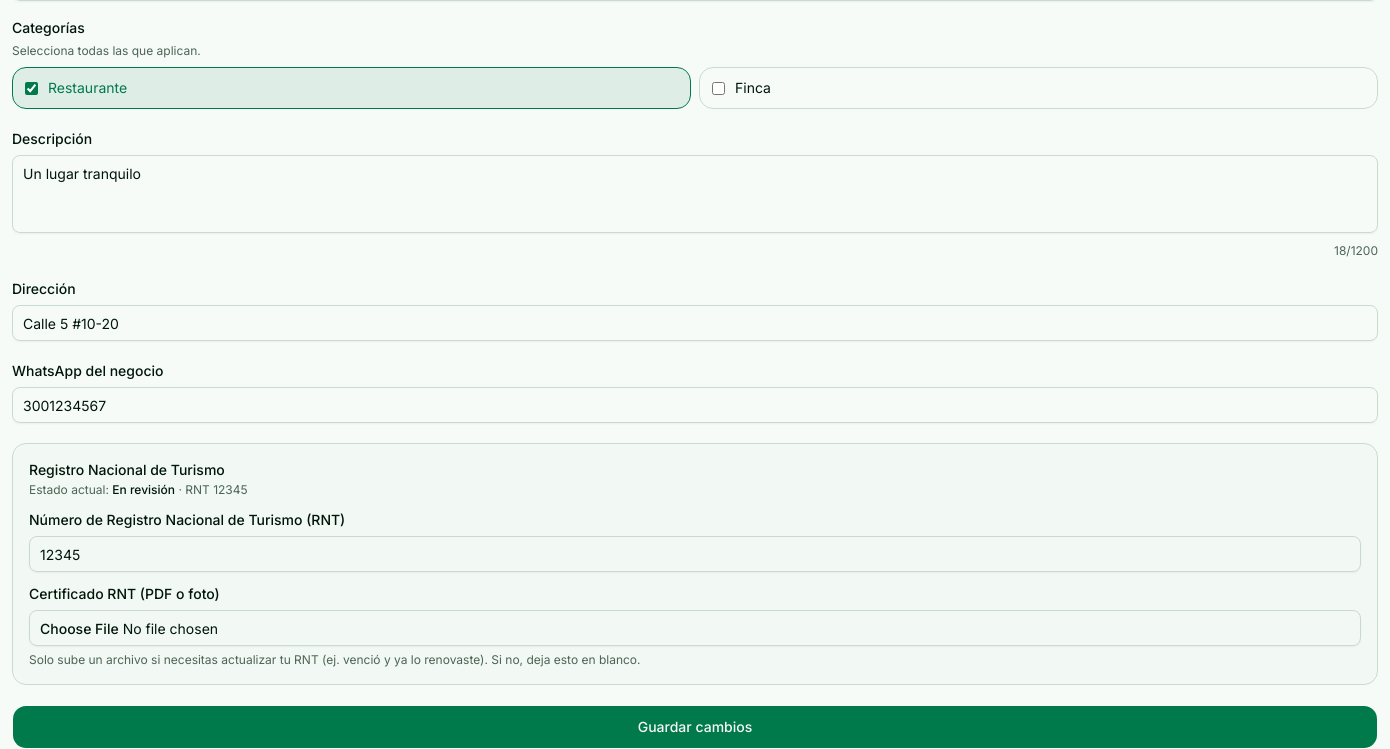
Test case: EditBusinessForm › disables the submit button and shows the pending label while the action is in flight
The image size is (1390, 749).
(page scrolled)
Click the button "Guardar cambios" at (695, 727), box x1=12 y1=705 x2=1378 y2=748
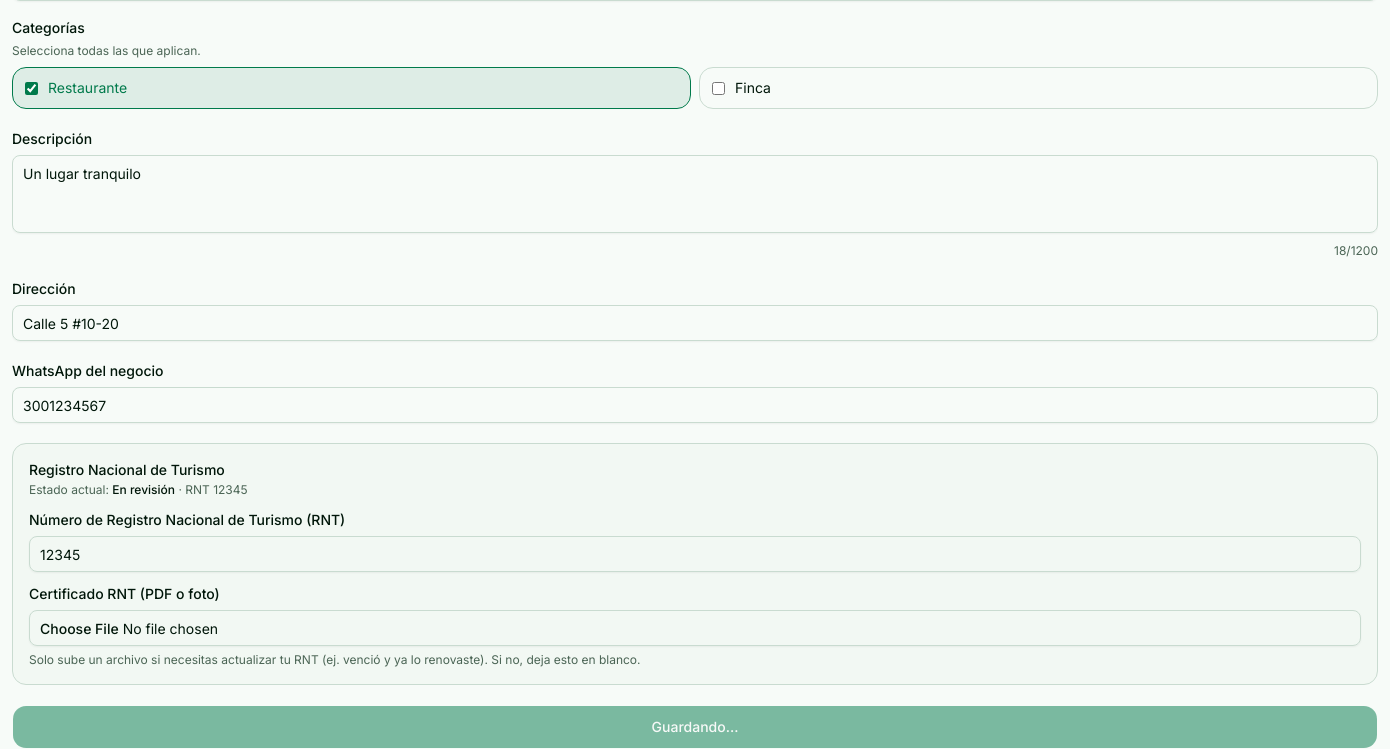
Now the button "Guardando..." is disabled, box x1=12 y1=705 x2=1378 y2=748
